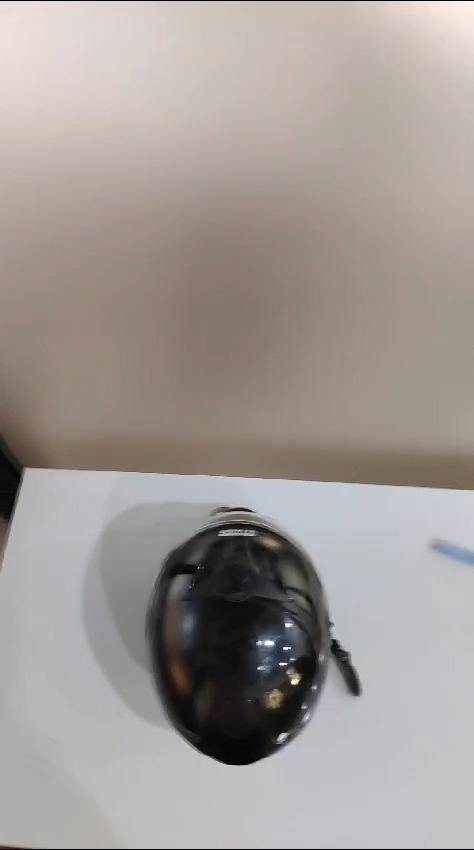Helmet: (140, 494, 345, 766)
